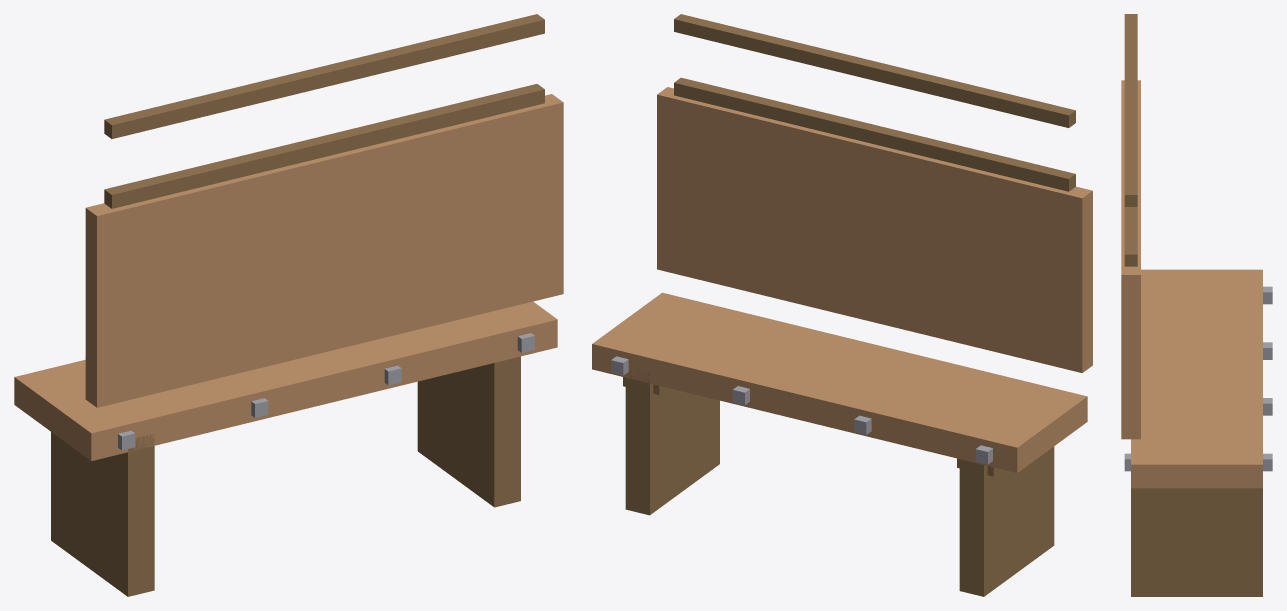
File: bench.glb
3 renders of one model, left to right at view 1: azimuth 30°, elevation 25°; view 2: azimuth 150°, elevation 25°; view 3: azimuth 270°, elevation 25°, orthographic. The views are drawn at different scales.
Parts seen in each view (by area): view 1: back, seat, leg_l, leg_l.001, back_rail.001, back_rail.002; view 2: back, seat, leg_l, leg_l.001, back_rail.001, back_rail.002; view 3: seat, leg_l.001, back, back_rail.002, back_rail.001.
Part boxes in pixels (bbox=[...]): back: bbox=[85, 94, 563, 407]; seat: bbox=[14, 301, 557, 460]; leg_l: bbox=[51, 432, 154, 596]; leg_l.001: bbox=[417, 356, 520, 507]; back_rail.001: bbox=[104, 84, 544, 208]; back_rail.002: bbox=[104, 14, 544, 138]; back: bbox=[657, 87, 1092, 372]; seat: bbox=[592, 292, 1087, 472]; leg_l: bbox=[959, 446, 1054, 596]; leg_l.001: bbox=[625, 369, 719, 515]; back_rail.001: bbox=[674, 77, 1075, 191]; back_rail.002: bbox=[674, 14, 1075, 127]; seat: bbox=[1131, 269, 1262, 488]; leg_l.001: bbox=[1131, 488, 1262, 596]; back: bbox=[1121, 80, 1140, 439]; back_rail.002: bbox=[1124, 14, 1137, 206]; back_rail.001: bbox=[1124, 207, 1137, 266].
Size of the model in its own units: 1.4 by 1.38 by 0.46.
